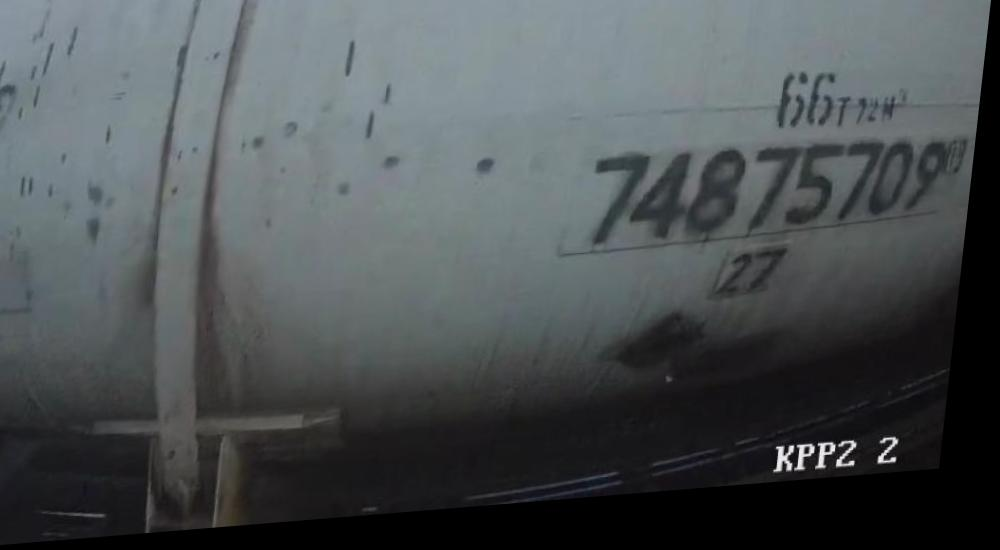Wagon-number: (584, 139, 956, 260)
